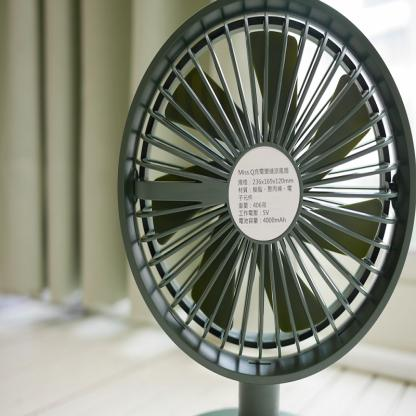fan: (119, 1, 416, 416)
